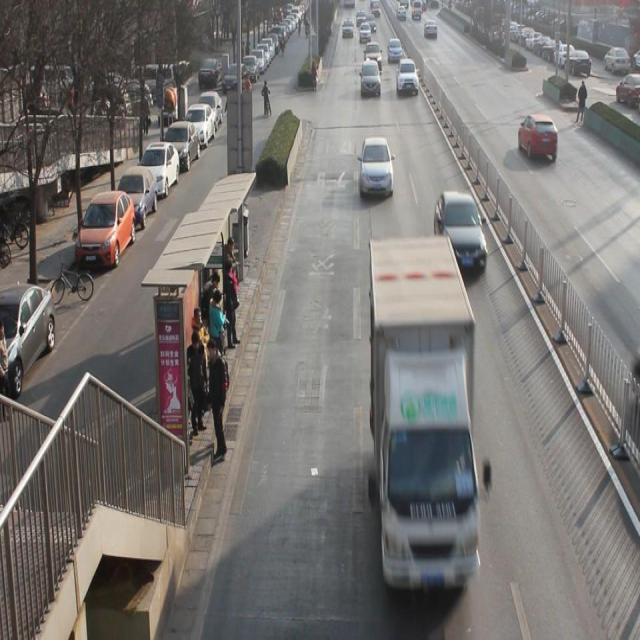bus: (368, 238, 478, 594)
car: (437, 190, 488, 272), (357, 135, 396, 196), (516, 114, 560, 166), (395, 57, 420, 101), (360, 60, 383, 95)
